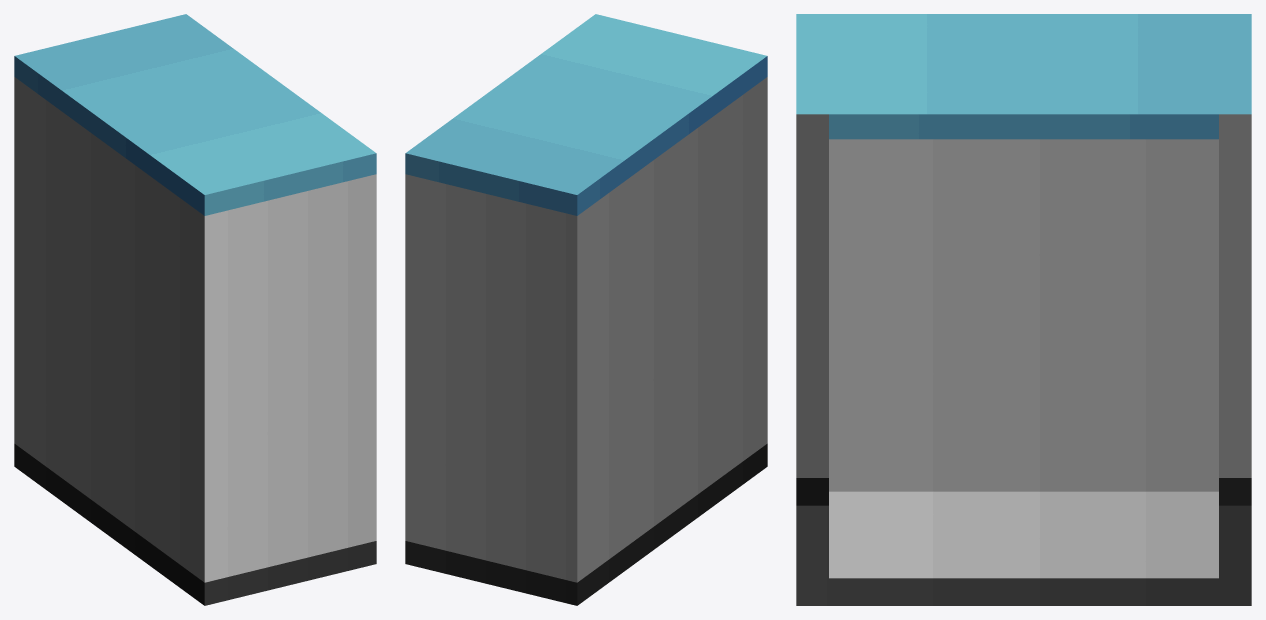
File: models.glb
3 views of the same model, side by side, from view 1: azimuth 30°, elevation 25°; view 2: azimuth 150°, elevation 25°; view 3: azimuth 270°, elevation 25° (orthographic). The views are drawn at different scales.
Visible parts, largest first — view 1: Cube; view 2: Cube; view 3: Cube.
Part boxes in pixels (bbox=[...]): Cube: bbox=[14, 14, 376, 605]; Cube: bbox=[405, 14, 767, 605]; Cube: bbox=[796, 14, 1251, 605].
Size of the model in its own units: 1.04 by 2.38 by 2.
1 material, 1 textured.
